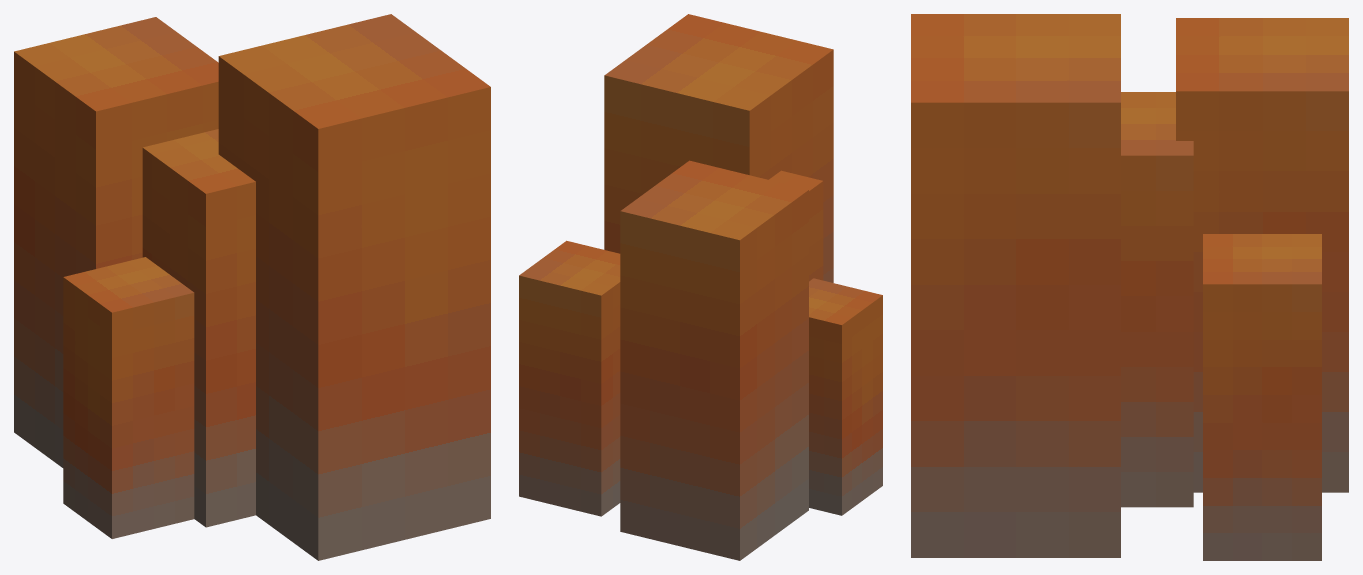
The model's file is scheelite_crystal_five.obj.
The picture shows the model from 3 angles, left to right: view 1: azimuth 30°, elevation 25°; view 2: azimuth 150°, elevation 25°; view 3: azimuth 270°, elevation 25°; orthographic projection. The views are drawn at different scales.
Parts seen in each view (by area): view 1: Crystal4_Cube.000, Crystal1_Cube.003, Crystal2_Cube.002, Crystal3_Cube.001; view 2: Crystal1_Cube.003, Crystal4_Cube.000, Crystal5_Cube.008, Crystal2_Cube.002, Crystal3_Cube.001; view 3: Crystal4_Cube.000, Crystal1_Cube.003, Crystal5_Cube.008, Crystal3_Cube.001.
Boxes of the visible parts, bbox=[...] form: Crystal4_Cube.000: bbox=[218, 14, 490, 560]; Crystal1_Cube.003: bbox=[14, 17, 218, 467]; Crystal2_Cube.002: bbox=[63, 257, 194, 538]; Crystal3_Cube.001: bbox=[142, 129, 255, 527]; Crystal1_Cube.003: bbox=[620, 160, 808, 560]; Crystal4_Cube.000: bbox=[604, 14, 833, 282]; Crystal5_Cube.008: bbox=[519, 240, 620, 516]; Crystal2_Cube.002: bbox=[809, 278, 882, 515]; Crystal3_Cube.001: bbox=[769, 170, 823, 281]; Crystal4_Cube.000: bbox=[911, 14, 1120, 557]; Crystal1_Cube.003: bbox=[1176, 18, 1348, 492]; Crystal5_Cube.008: bbox=[1203, 234, 1321, 560]; Crystal3_Cube.001: bbox=[1121, 92, 1193, 507].
Bounding box in the file's own units: 0.4881 × 0.6473 × 0.5645.
